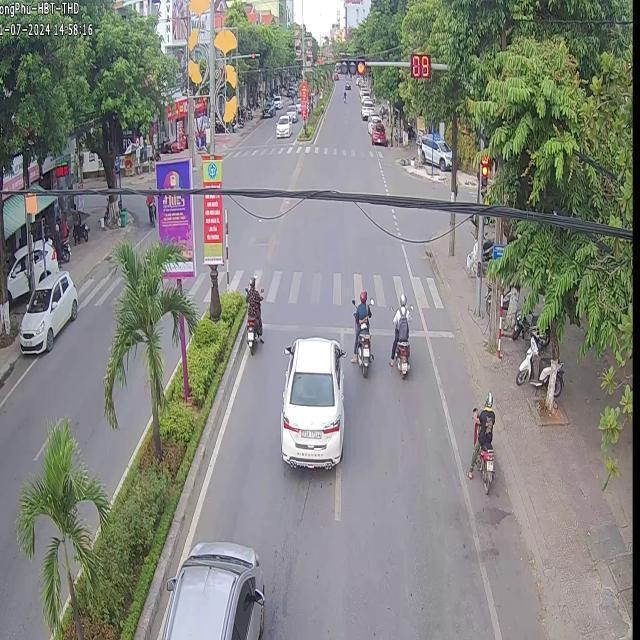car: (160, 540, 263, 638), (279, 336, 344, 467), (18, 269, 76, 351)
motobike: (388, 291, 410, 376), (350, 289, 370, 376), (244, 276, 260, 351), (474, 447, 493, 491), (472, 420, 477, 439)
red_light: (408, 56, 432, 74), (479, 152, 487, 198), (338, 60, 363, 73)
stop_line: (262, 320, 338, 331), (426, 327, 452, 336), (369, 327, 392, 335), (408, 327, 423, 336), (342, 325, 352, 335)
